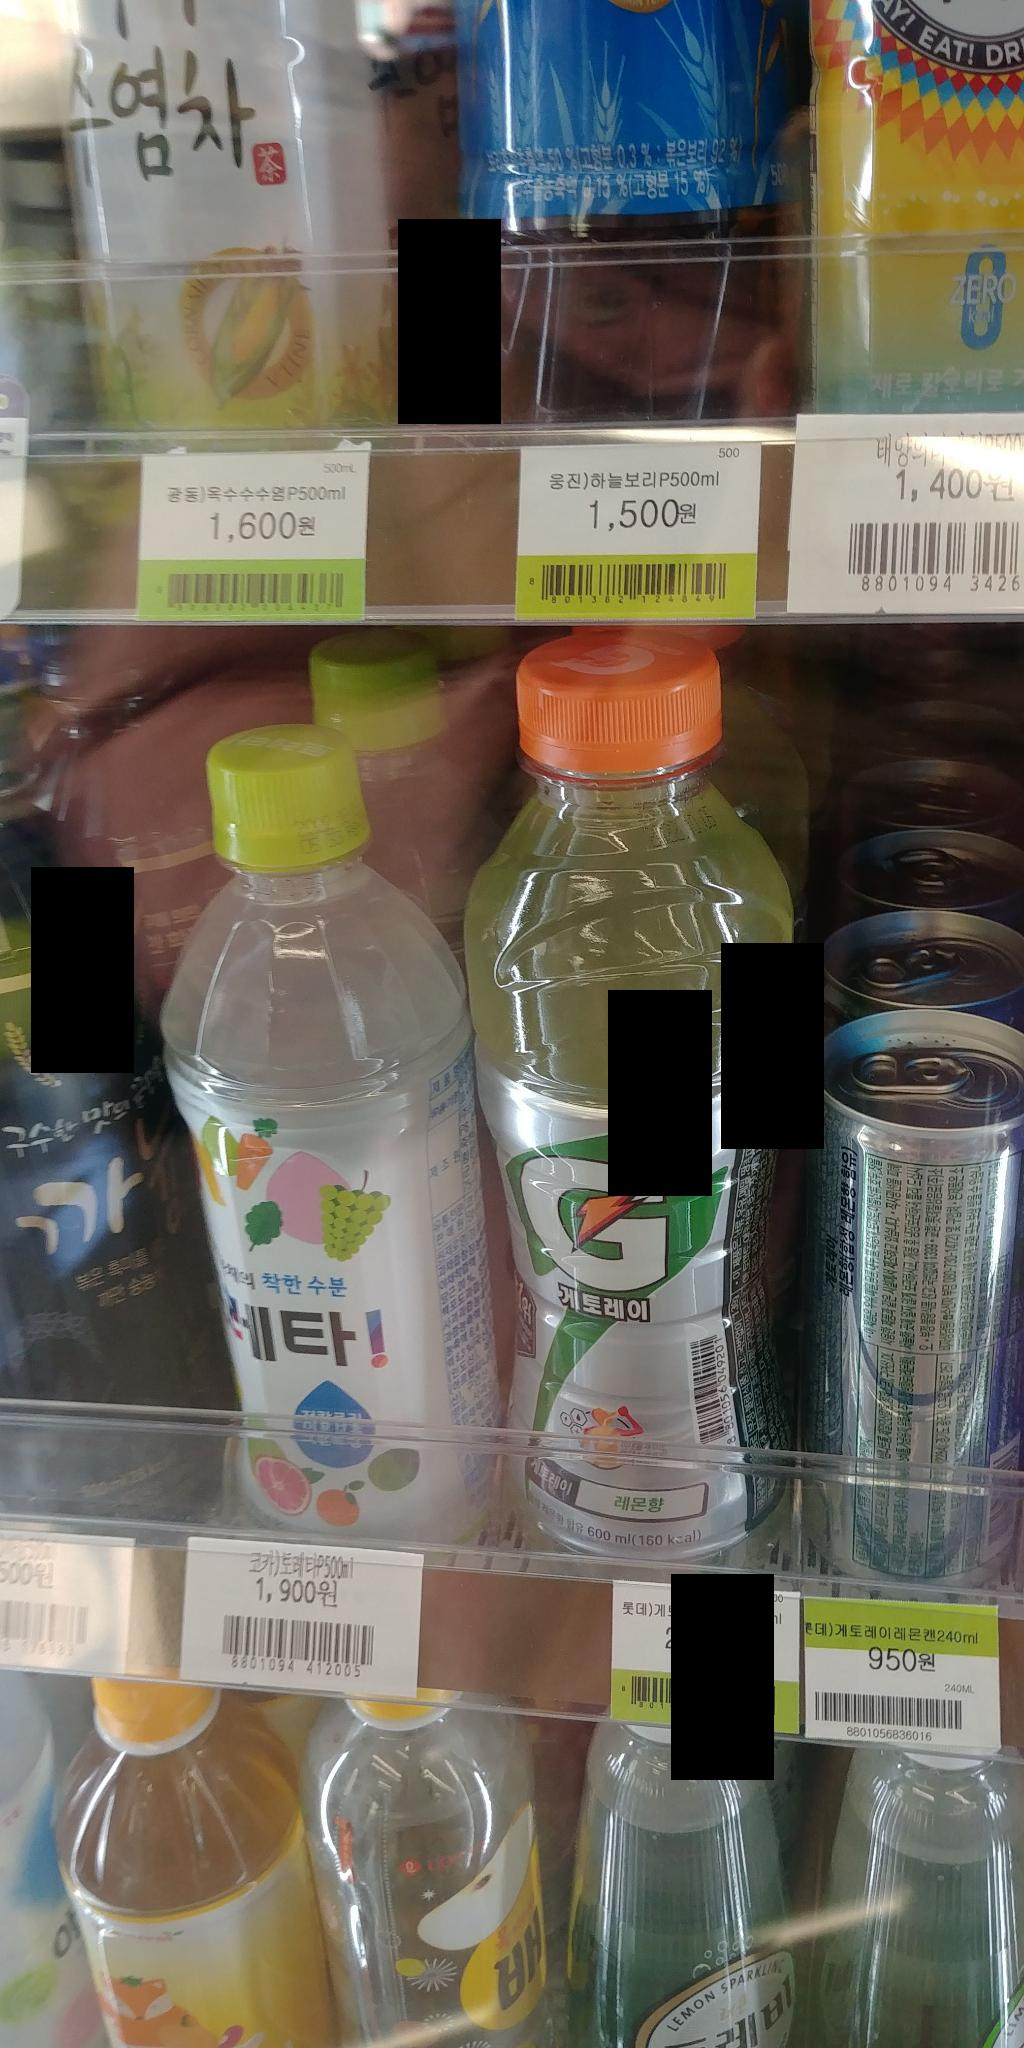gatorade_lemon: (458, 623, 822, 1578)
toreta: (124, 721, 524, 1560)
